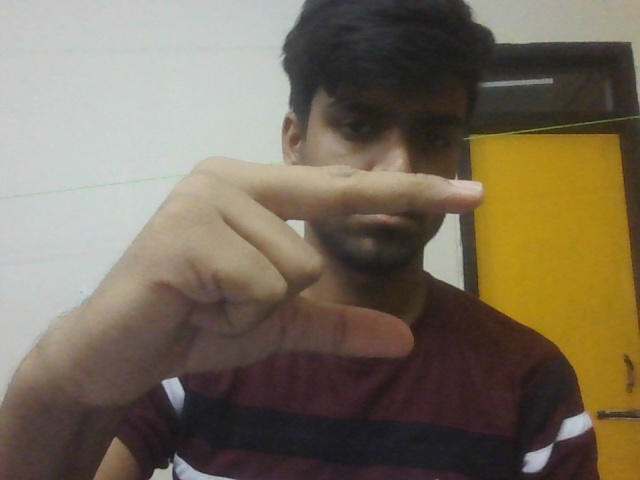no: (1, 150, 492, 405)
